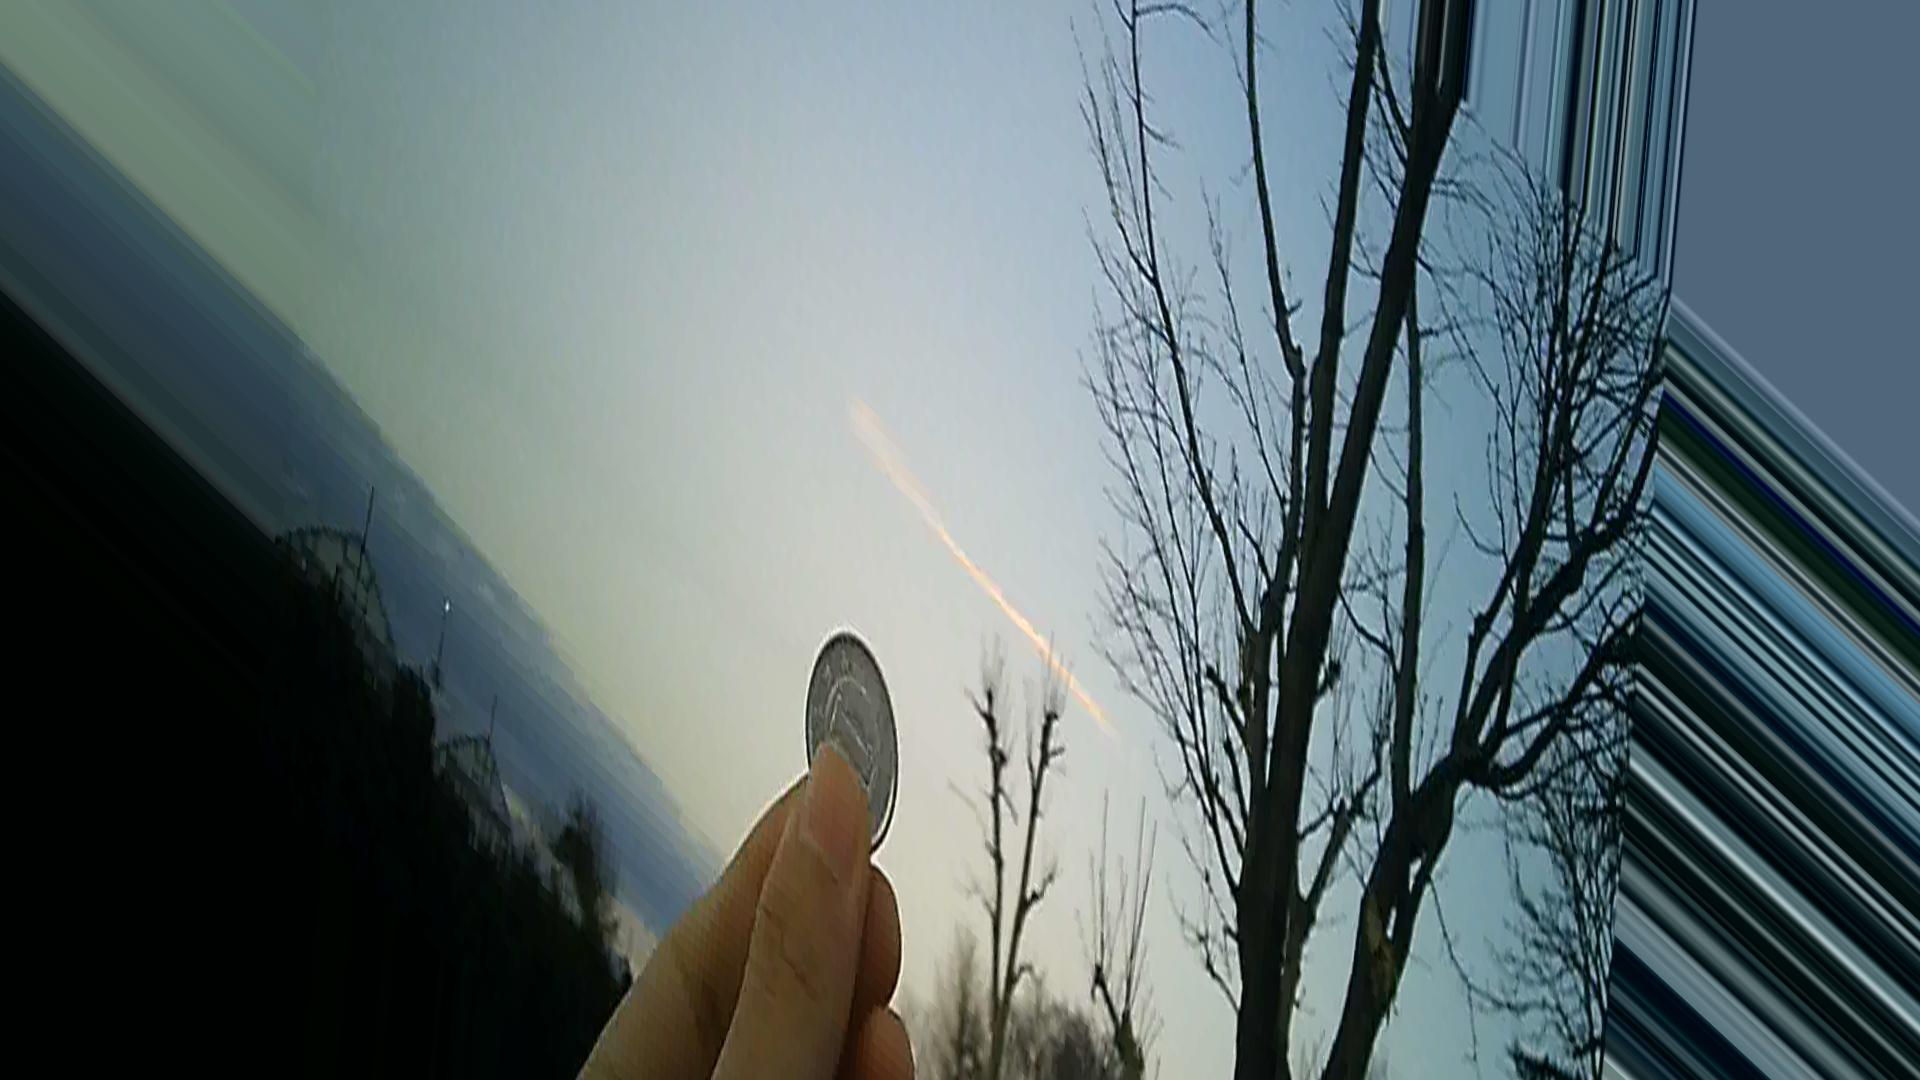1 Yen: (793, 632, 916, 837)
